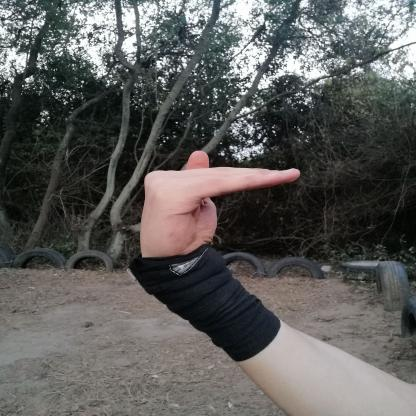KHAA: (112, 142, 316, 276)
